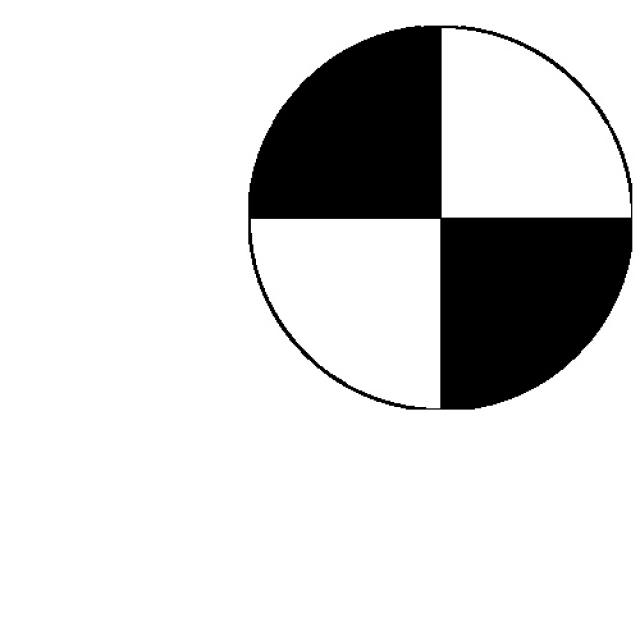Marcadores: (251, 27, 630, 411)
